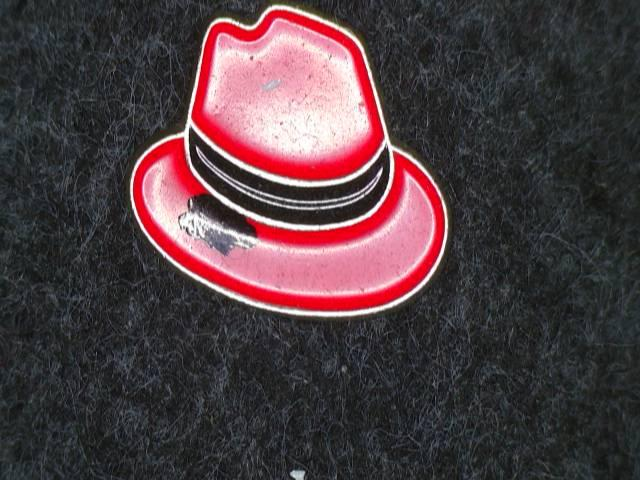Red-Hat: (90, 0, 475, 351)
Scratch: (162, 173, 272, 266)
